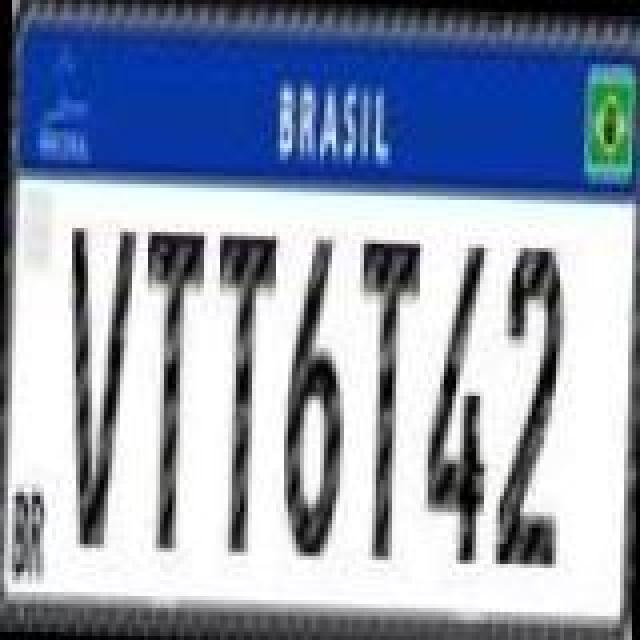2: (492, 234, 568, 574)
4: (418, 236, 490, 560)
6: (276, 230, 352, 558)
T: (134, 224, 206, 548), (206, 230, 278, 554), (350, 234, 422, 558)
V: (58, 220, 138, 548)
